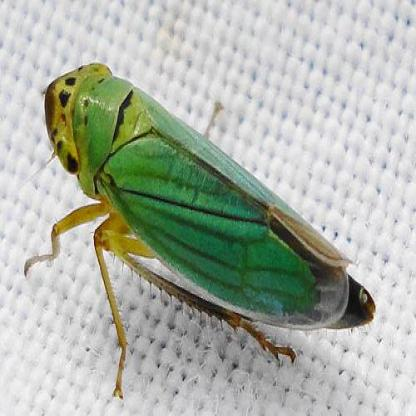Green-Leafhopper: (21, 62, 377, 400)
